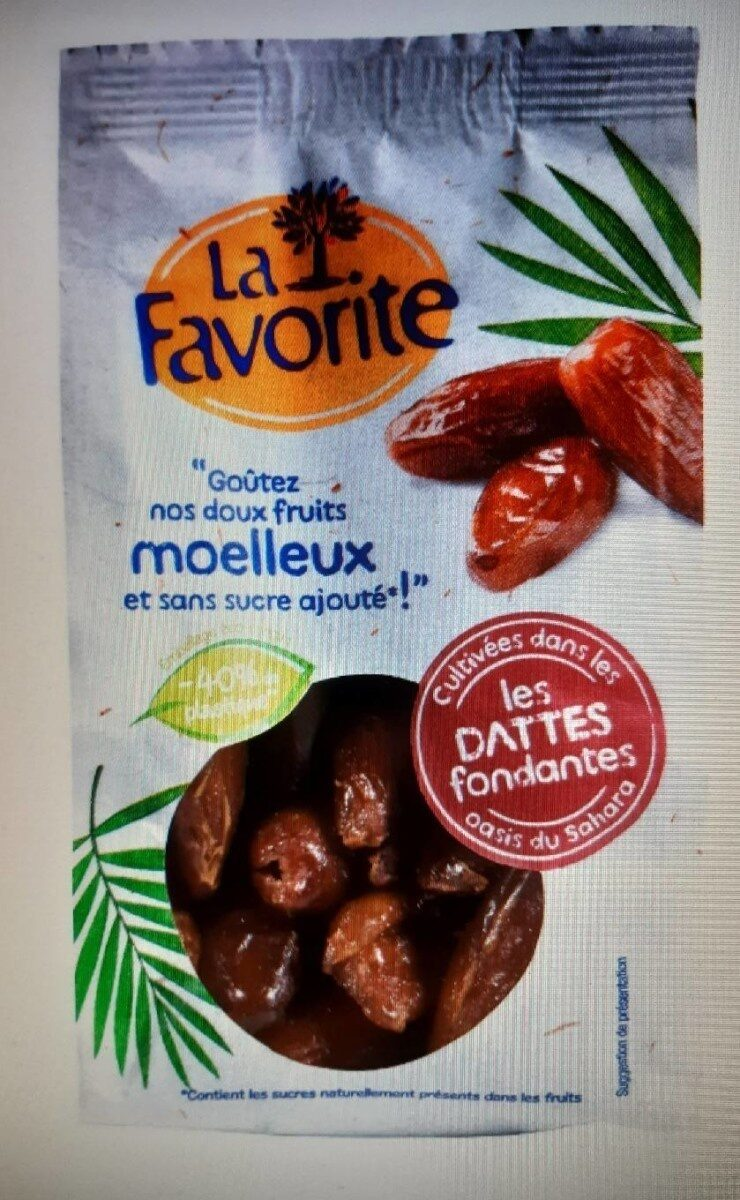Dattes moelleuses: (37, 60, 703, 1140)
